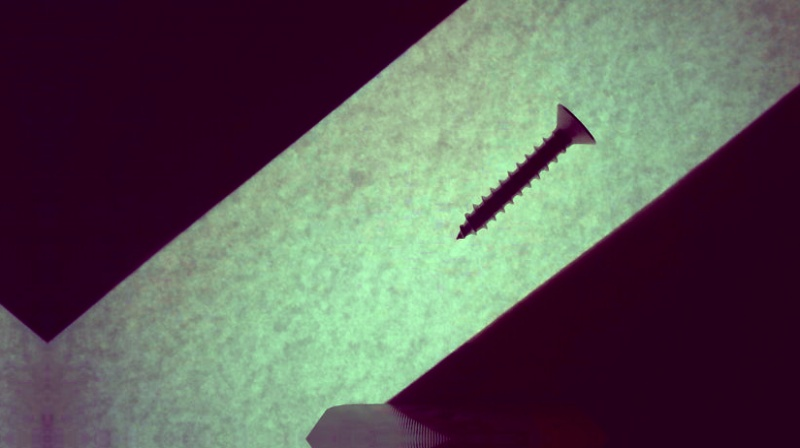S001: (452, 102, 599, 242)
